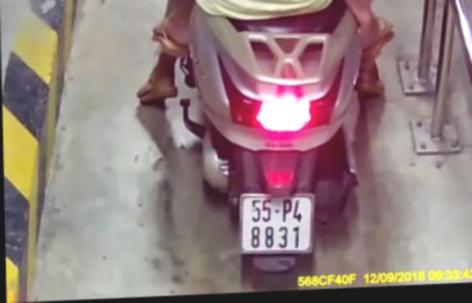License_Plate: (230, 190, 320, 260)
